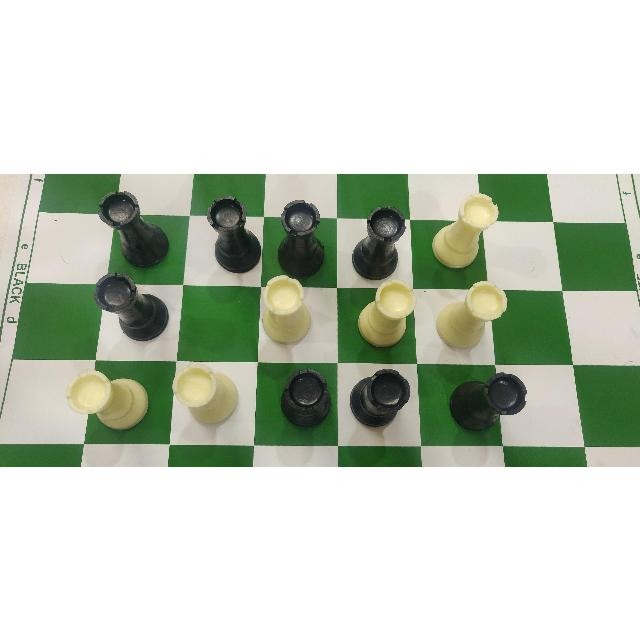black-rook: (96, 187, 174, 267), (90, 270, 174, 339), (449, 370, 531, 438), (204, 190, 263, 273), (349, 202, 410, 279), (273, 198, 327, 272), (351, 366, 412, 430), (280, 366, 334, 432)
white-rook: (60, 370, 148, 437), (431, 276, 508, 345), (437, 193, 497, 272), (171, 363, 239, 428), (357, 279, 415, 350), (259, 272, 315, 345)
